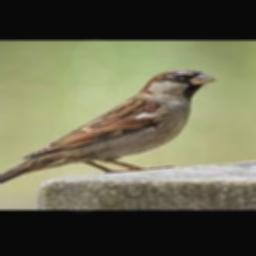Sparrow: (0, 70, 216, 196)
